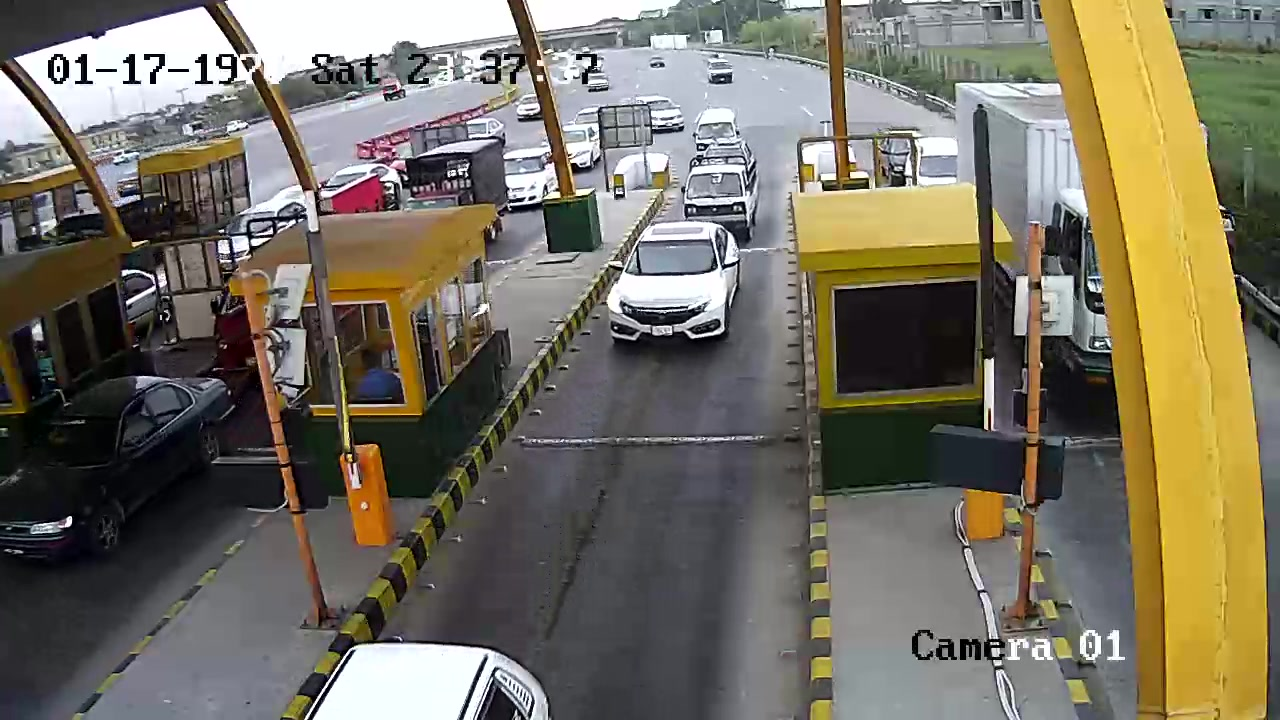F1: (599, 208, 757, 368)
